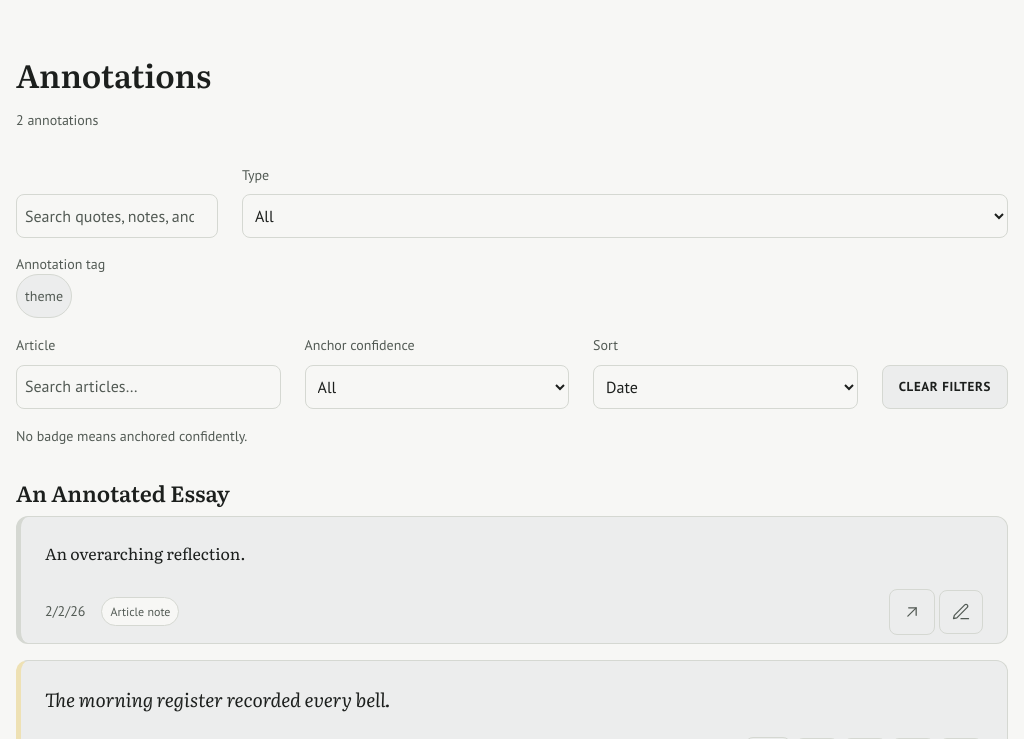
Test: ReviewView article-note rows (issue #210) › keeps filters and other rows inert until the editor safely closes
Step 1. Click the button named "Edit article note: An overarching reflection." → click(961, 612), box [939,590,983,634]
(page scrolled)
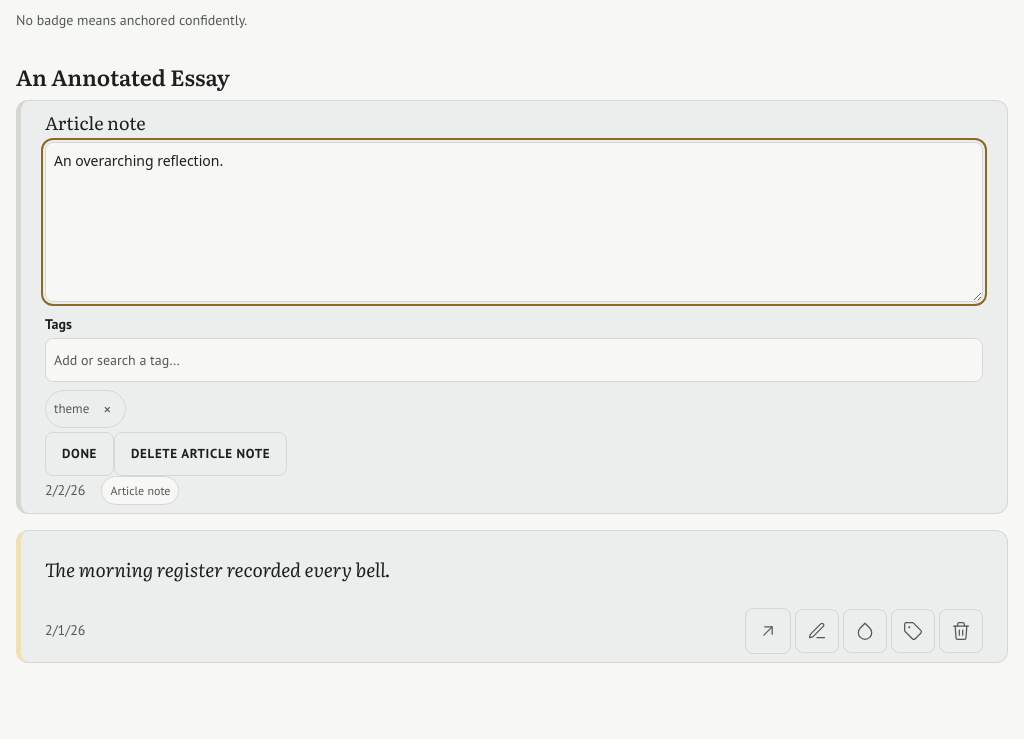
Check: the list item with class "review-item" has attribute inert, box [16,530,1008,663]
Step 2. Click the button "Done" → click(80, 454), box [45,432,114,476]
(page scrolled)
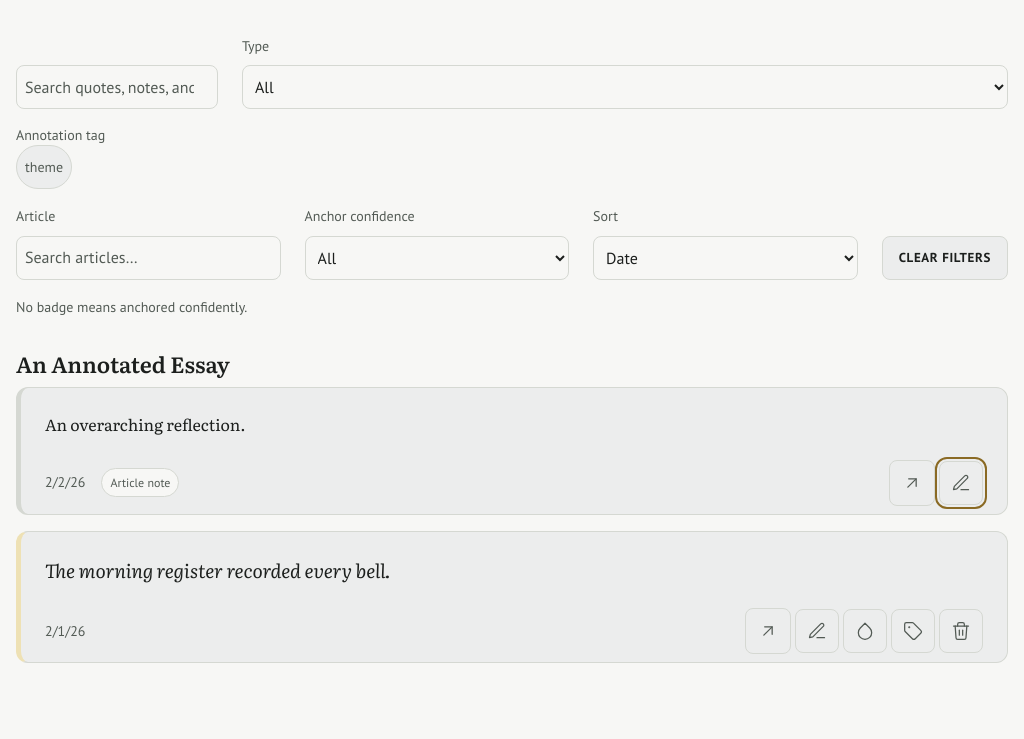
Check: the element with class "review-filter-row" does not have attribute inert, box [16,35,1008,280]
Check: the list item with class "review-item" does not have attribute inert, box [16,531,1008,663]
